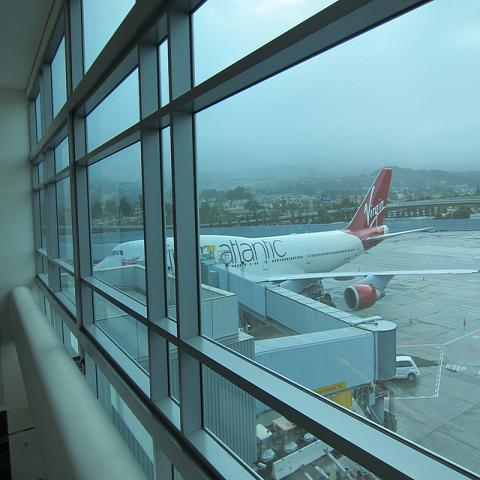car: (394, 356, 420, 382)
